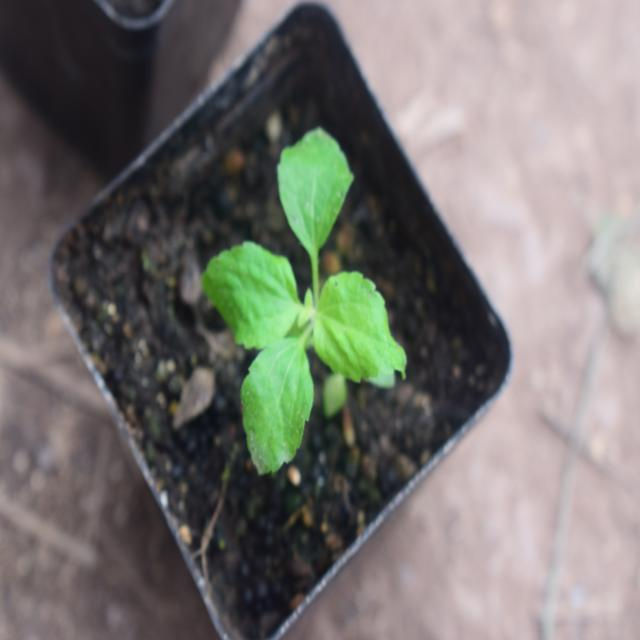billygoat_weed: (195, 119, 401, 473)
